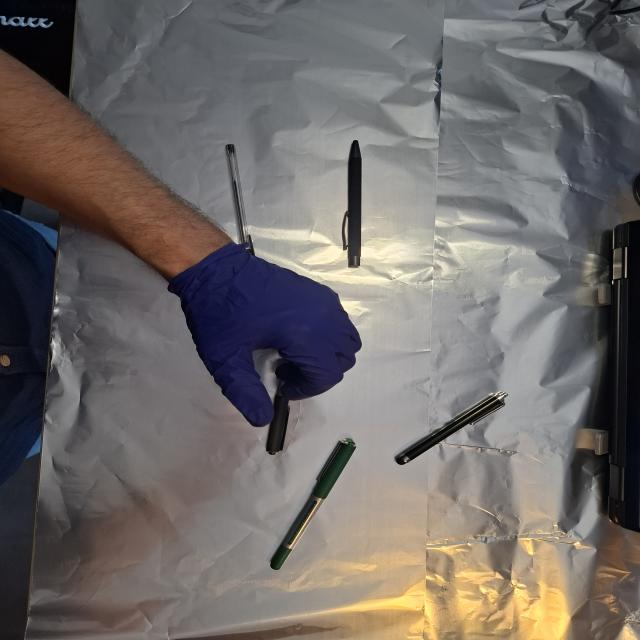glove_on: (174, 243, 366, 430)
